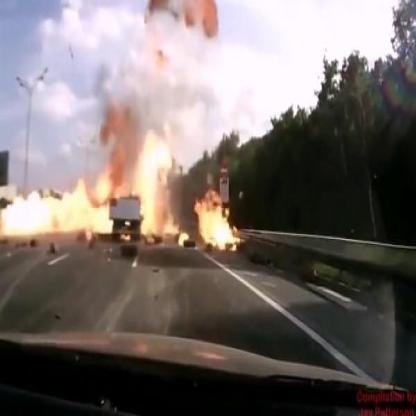fire: (3, 110, 174, 253), (192, 183, 244, 261)
